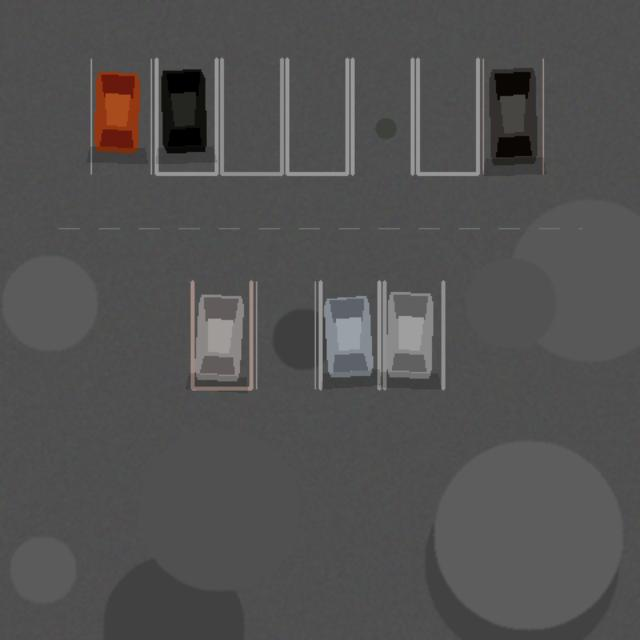space-empty: (221, 59, 281, 173), (287, 59, 347, 173), (352, 59, 412, 173), (417, 59, 477, 173), (256, 281, 315, 388)
space-occupied: (91, 59, 151, 173), (156, 59, 216, 173), (483, 59, 543, 173), (192, 281, 251, 388), (320, 281, 379, 388), (384, 281, 443, 388)
